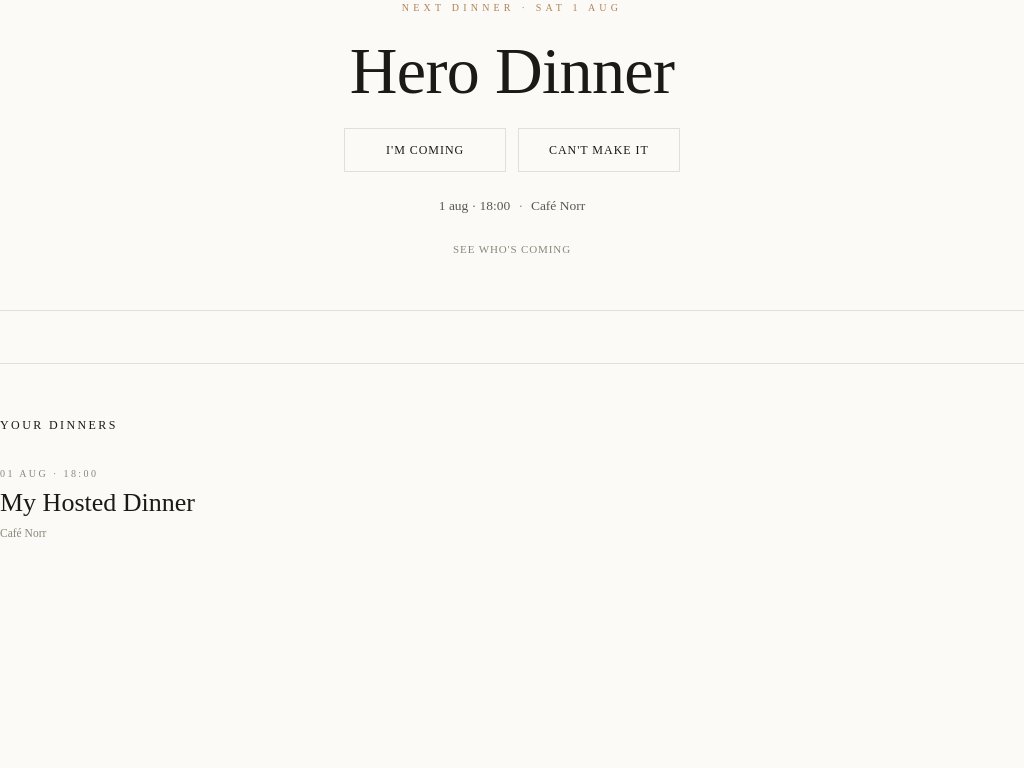
Test: DinnersGallery Component › opens a hosted dinner's dialog with RSVP controls so the host can still attend
Click the button "01 AUG · 18:00 My Hosted Dinner Café Norr". click: (159, 504)
box: [0,466,317,542]
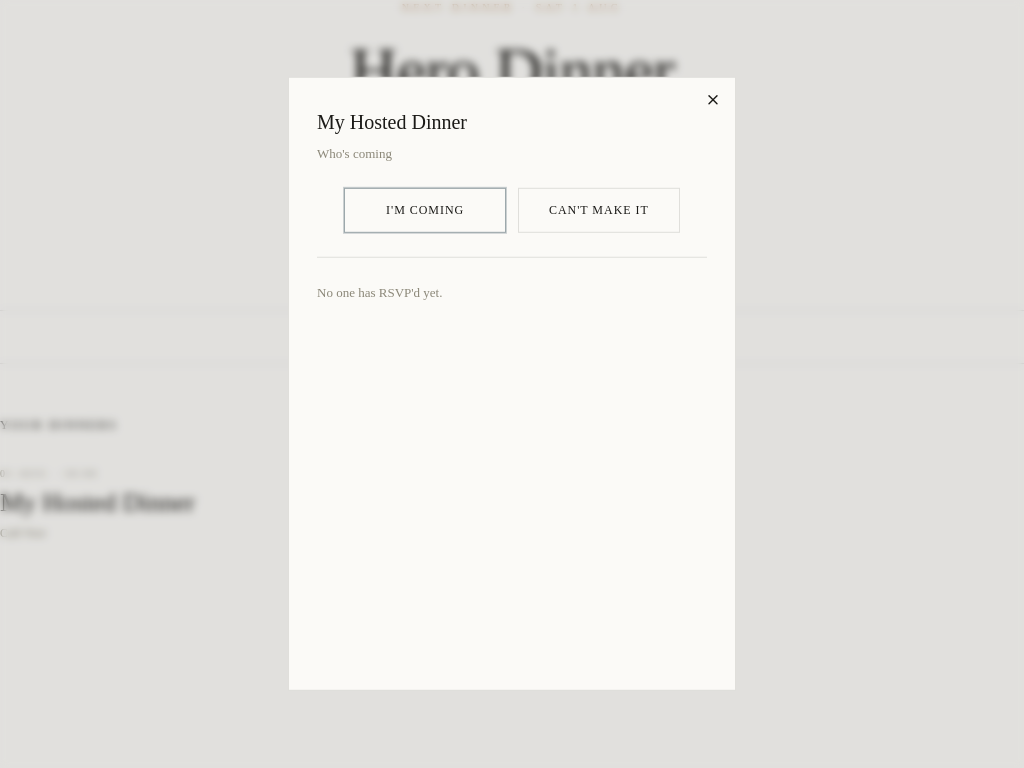
Expected: the button "I'm coming" is shown, [344,187,506,233]
Expected: the button "Can't make it" is shown, [518,187,680,233]
